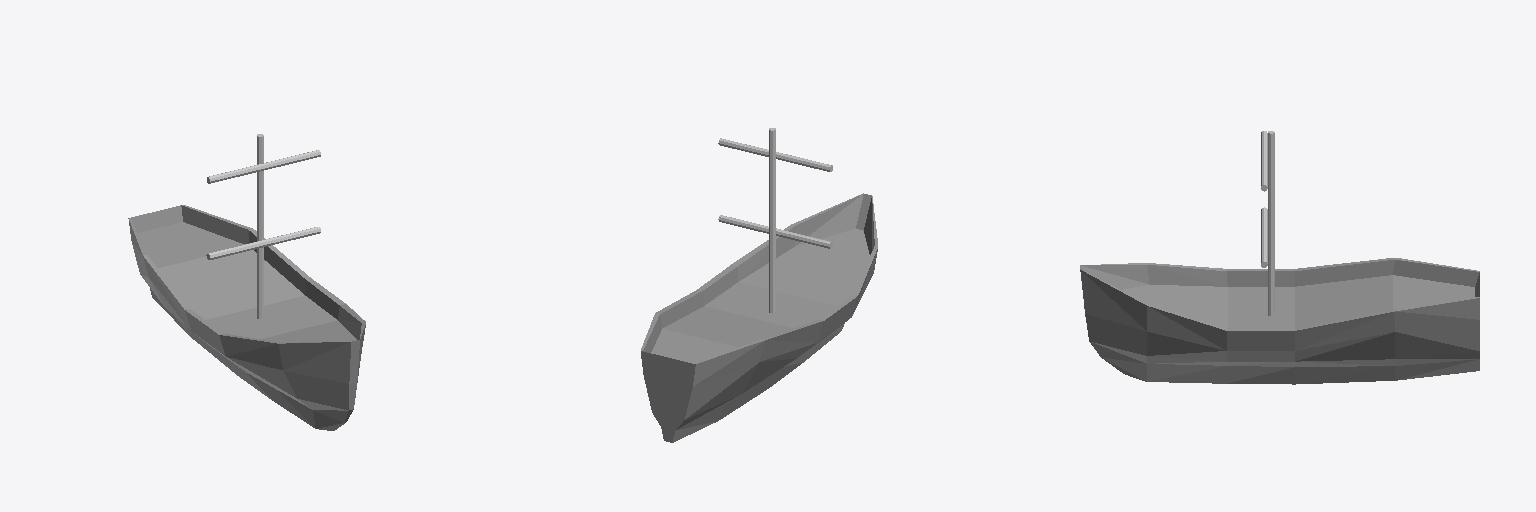
Rendered from ship.obj.
The picture shows the model from 3 angles: view 1: azimuth 30°, elevation 25°; view 2: azimuth 150°, elevation 25°; view 3: azimuth 270°, elevation 25°; orthographic projection.
Visible parts, largest first — view 1: Cube, Cylinder, Cylinder.001_Cylinder.002, Cylinder.002_Cylinder.003; view 2: Cube, Cylinder, Cylinder.001_Cylinder.002, Cylinder.002_Cylinder.003; view 3: Cube, Cylinder.
Part boxes in pixels (left/top/right/bottom): Cube: left=128, top=205, right=365, bottom=430; Cylinder: left=257, top=134, right=263, bottom=318; Cylinder.001_Cylinder.002: left=206, top=227, right=320, bottom=259; Cylinder.002_Cylinder.003: left=207, top=150, right=320, bottom=183; Cube: left=641, top=193, right=877, bottom=442; Cylinder: left=769, top=128, right=775, bottom=312; Cylinder.001_Cylinder.002: left=718, top=215, right=832, bottom=248; Cylinder.002_Cylinder.003: left=718, top=138, right=832, bottom=171; Cube: left=1080, top=258, right=1479, bottom=384; Cylinder: left=1268, top=131, right=1274, bottom=315.
Size of the model in its own units: 2.81 by 5.23 by 7.64.